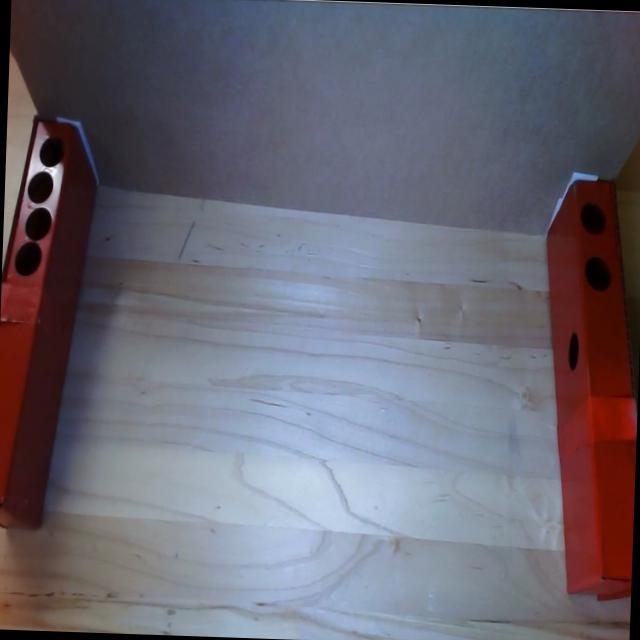Hole: (24, 206, 54, 242), (13, 241, 42, 277), (584, 255, 612, 292), (26, 170, 54, 204), (580, 202, 606, 235), (39, 136, 64, 167), (568, 330, 580, 370)
